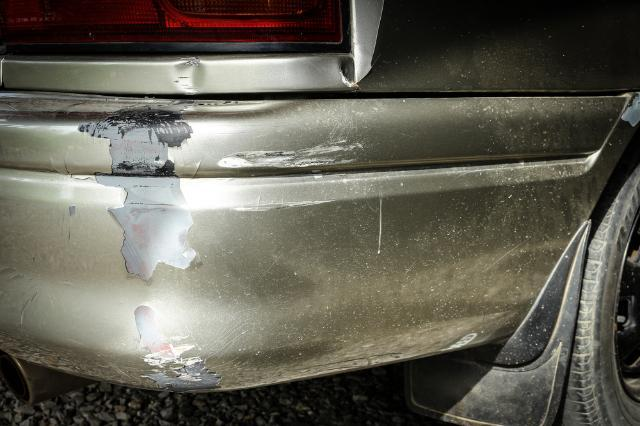dent: (174, 59, 206, 92)
scratch: (81, 103, 199, 287), (137, 332, 223, 393), (215, 139, 364, 171)
